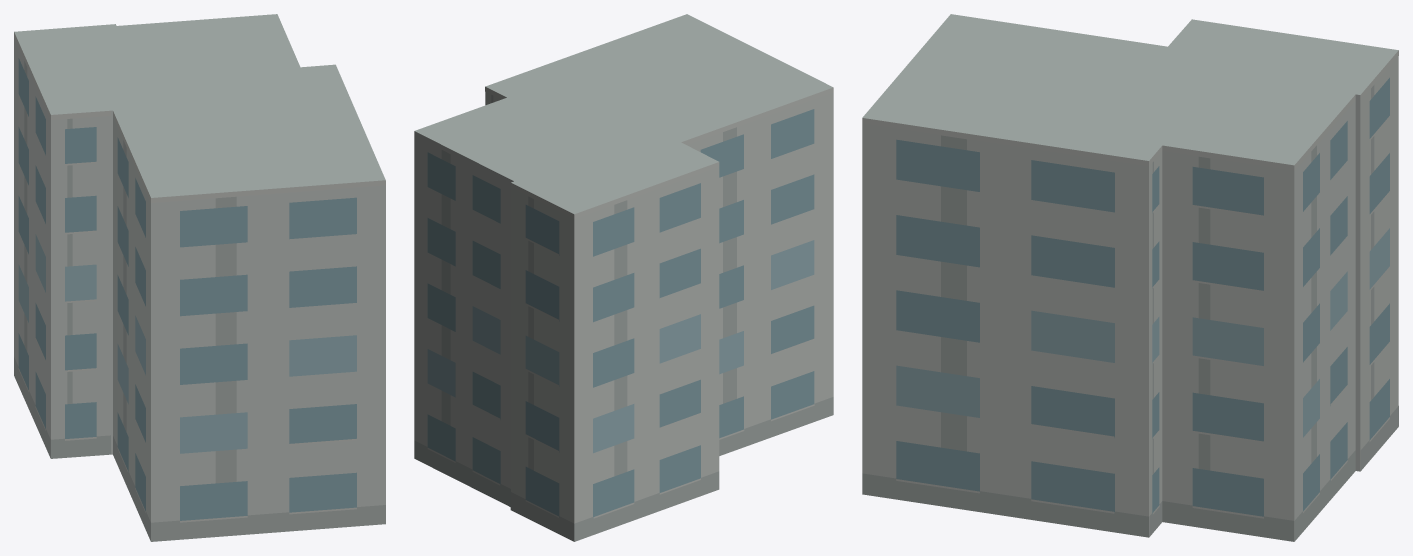
The model's file is survey-upis-32800362.glb.
The picture shows the model from 3 angles, left to right: view 1: azimuth 30°, elevation 25°; view 2: azimuth 150°, elevation 25°; view 3: azimuth 270°, elevation 25°; orthographic projection. The views are drawn at different scales.
Parts seen in each view (by area): view 1: survey-upis-32800362.tmp; view 2: survey-upis-32800362.tmp; view 3: survey-upis-32800362.tmp.
Boxes of the visible parts, left/top/right/bottom form: survey-upis-32800362.tmp: left=14, top=14, right=385, bottom=541; survey-upis-32800362.tmp: left=414, top=14, right=833, bottom=541; survey-upis-32800362.tmp: left=862, top=14, right=1398, bottom=541.
Size of the model in its own units: 13.89 by 16.1 by 20.8.
